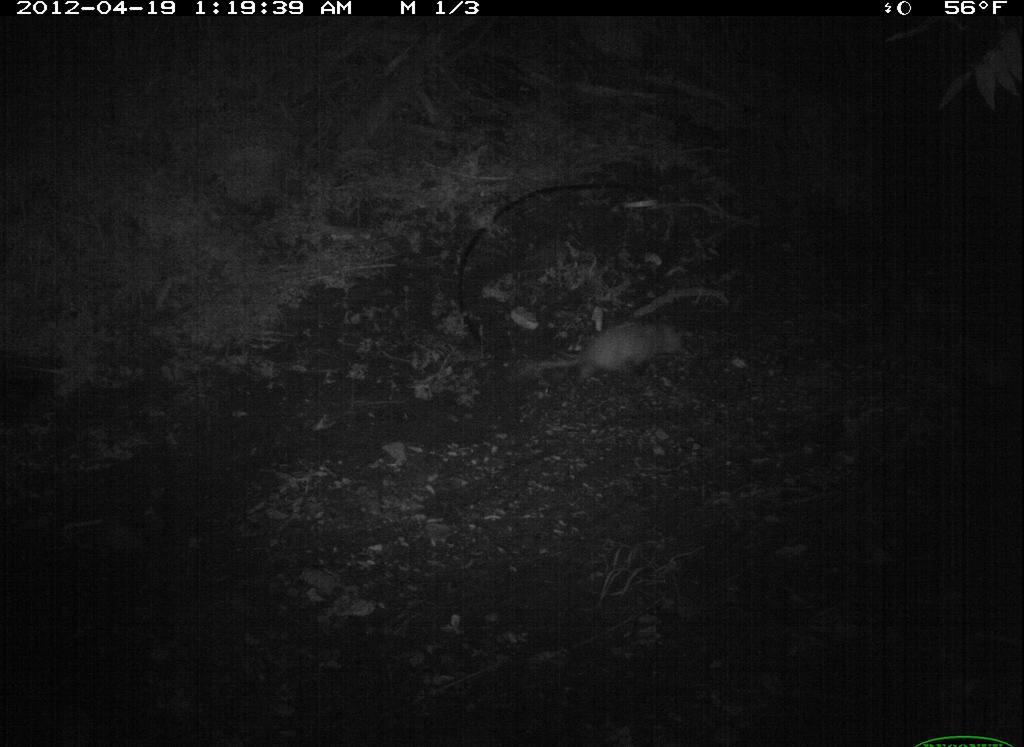opossum: (524, 313, 693, 400)
